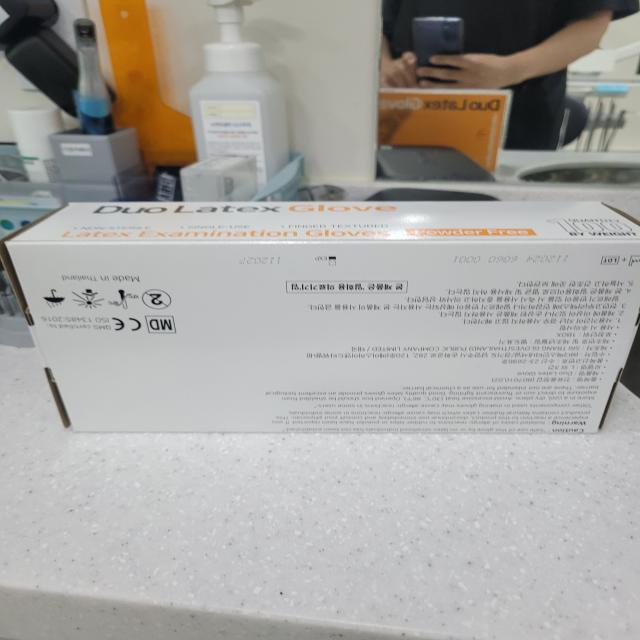glove: (0, 182, 640, 457)
